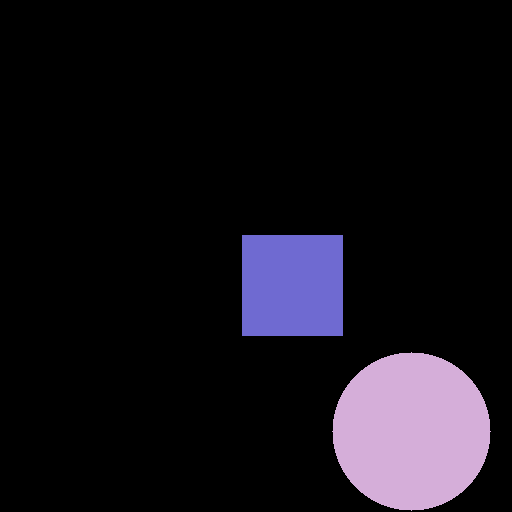circle: (332, 352, 490, 510)
square: (242, 235, 342, 335)
